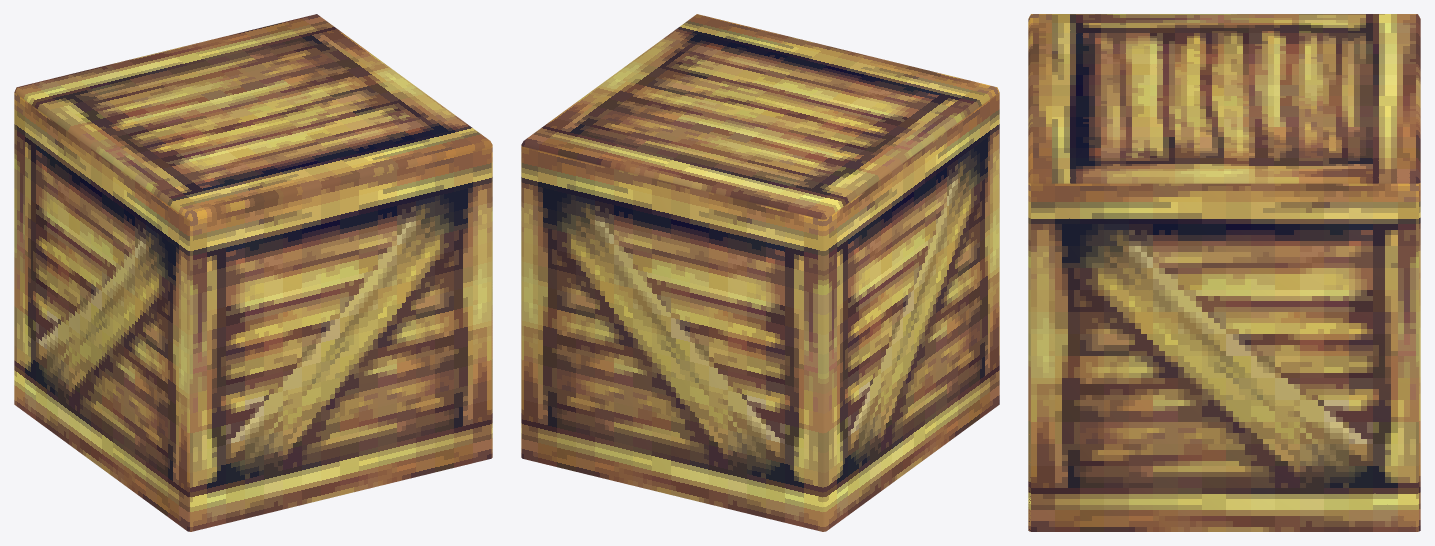
3 views of the same model, side by side, from view 1: azimuth 30°, elevation 25°; view 2: azimuth 150°, elevation 25°; view 3: azimuth 270°, elevation 25° (orthographic). The views are drawn at different scales.
Visible parts, largest first — view 1: box14_1; view 2: box14_1; view 3: box14_1.
Boxes of the visible parts, x1,y1,x2,y2 form: box14_1: [14, 14, 492, 531]; box14_1: [521, 14, 999, 531]; box14_1: [1028, 14, 1420, 531].
Bounding box in the file's own units: 140 × 139 × 140.
Materials: 2 (2 with a texture image).
